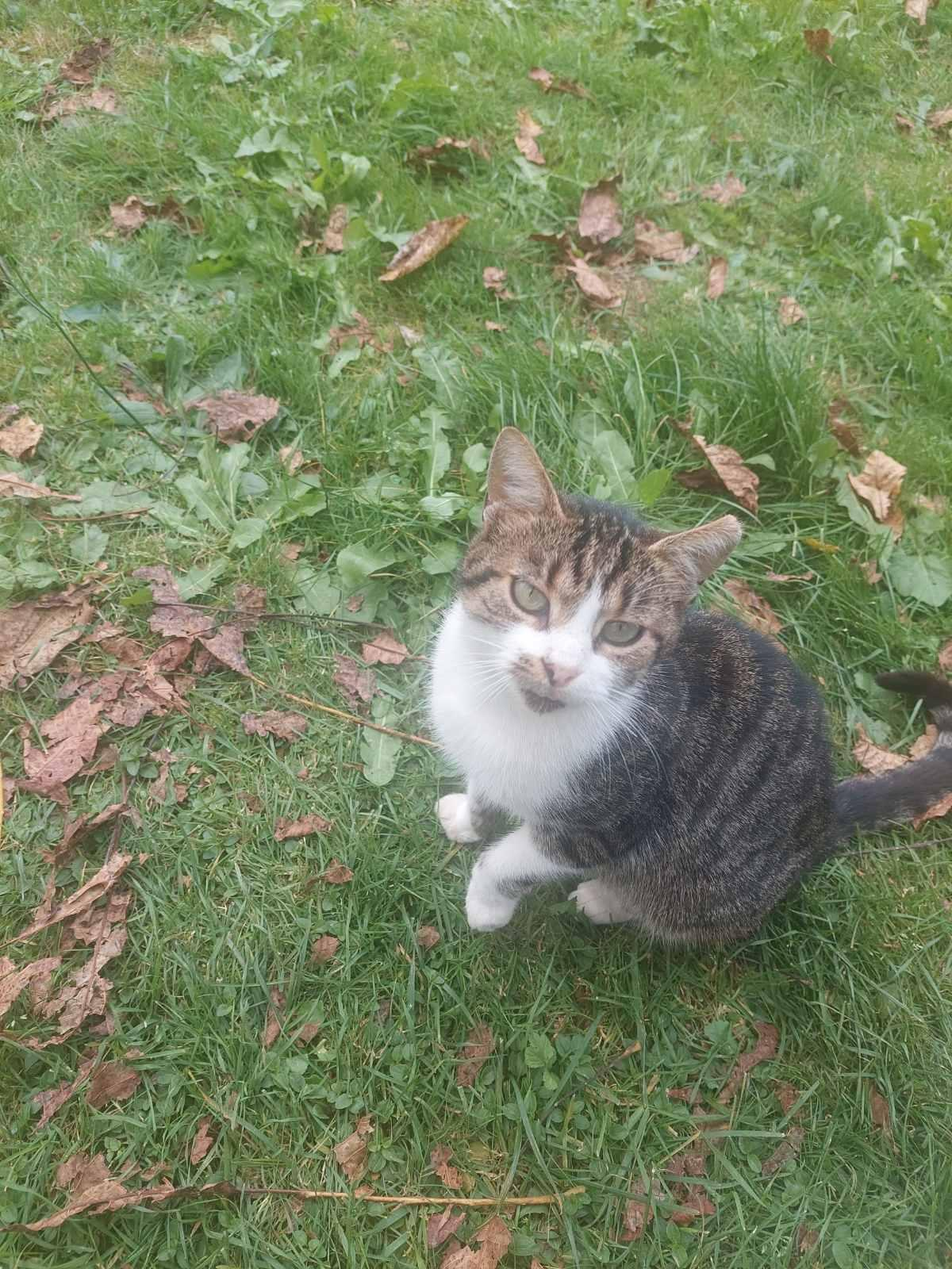macka: (428, 428, 951, 947)
